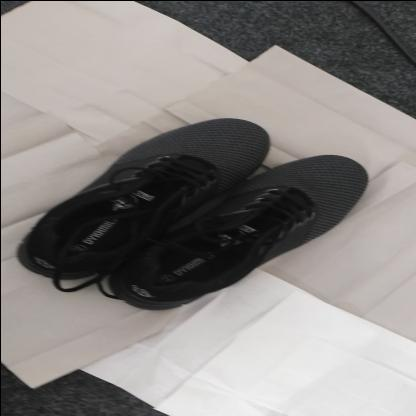safety-shoe: (15, 116, 369, 310)
